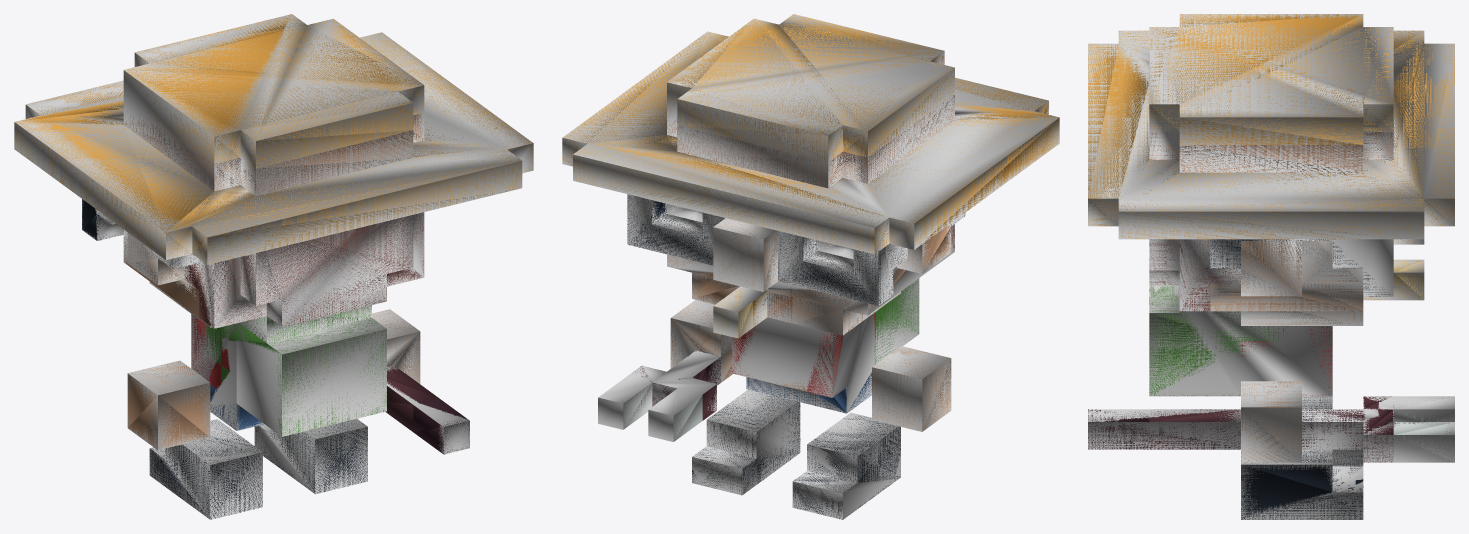
File: character_export.fbx
3 renders of one model, left to right at view 1: azimuth 30°, elevation 25°; view 2: azimuth 150°, elevation 25°; view 3: azimuth 270°, elevation 25°, orthographic. The views are drawn at different scales.
Parts seen in each view (by area): view 1: Untitled, Untitled_Backup; view 2: Untitled, Untitled_Backup; view 3: Untitled, Untitled_Backup.
Boxes of the visible parts, bbox=[...] form: Untitled: bbox=[14, 14, 533, 519]; Untitled_Backup: bbox=[14, 14, 533, 519]; Untitled: bbox=[562, 14, 1059, 519]; Untitled_Backup: bbox=[562, 14, 1059, 519]; Untitled: bbox=[1088, 14, 1454, 519]; Untitled_Backup: bbox=[1088, 14, 1454, 519].
Bounding box in the file's own units: 140 × 150 × 120.
